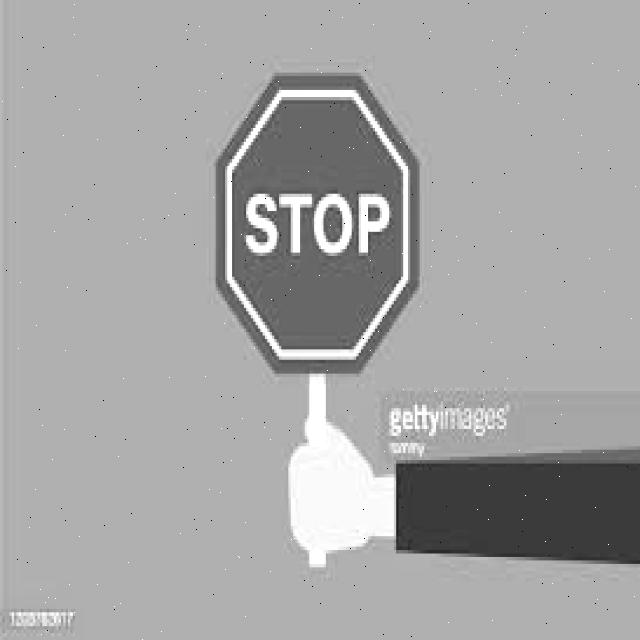stop sign: (212, 72, 419, 372)
